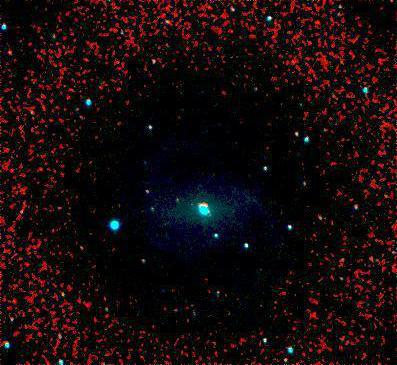star: (188, 210, 218, 240)
